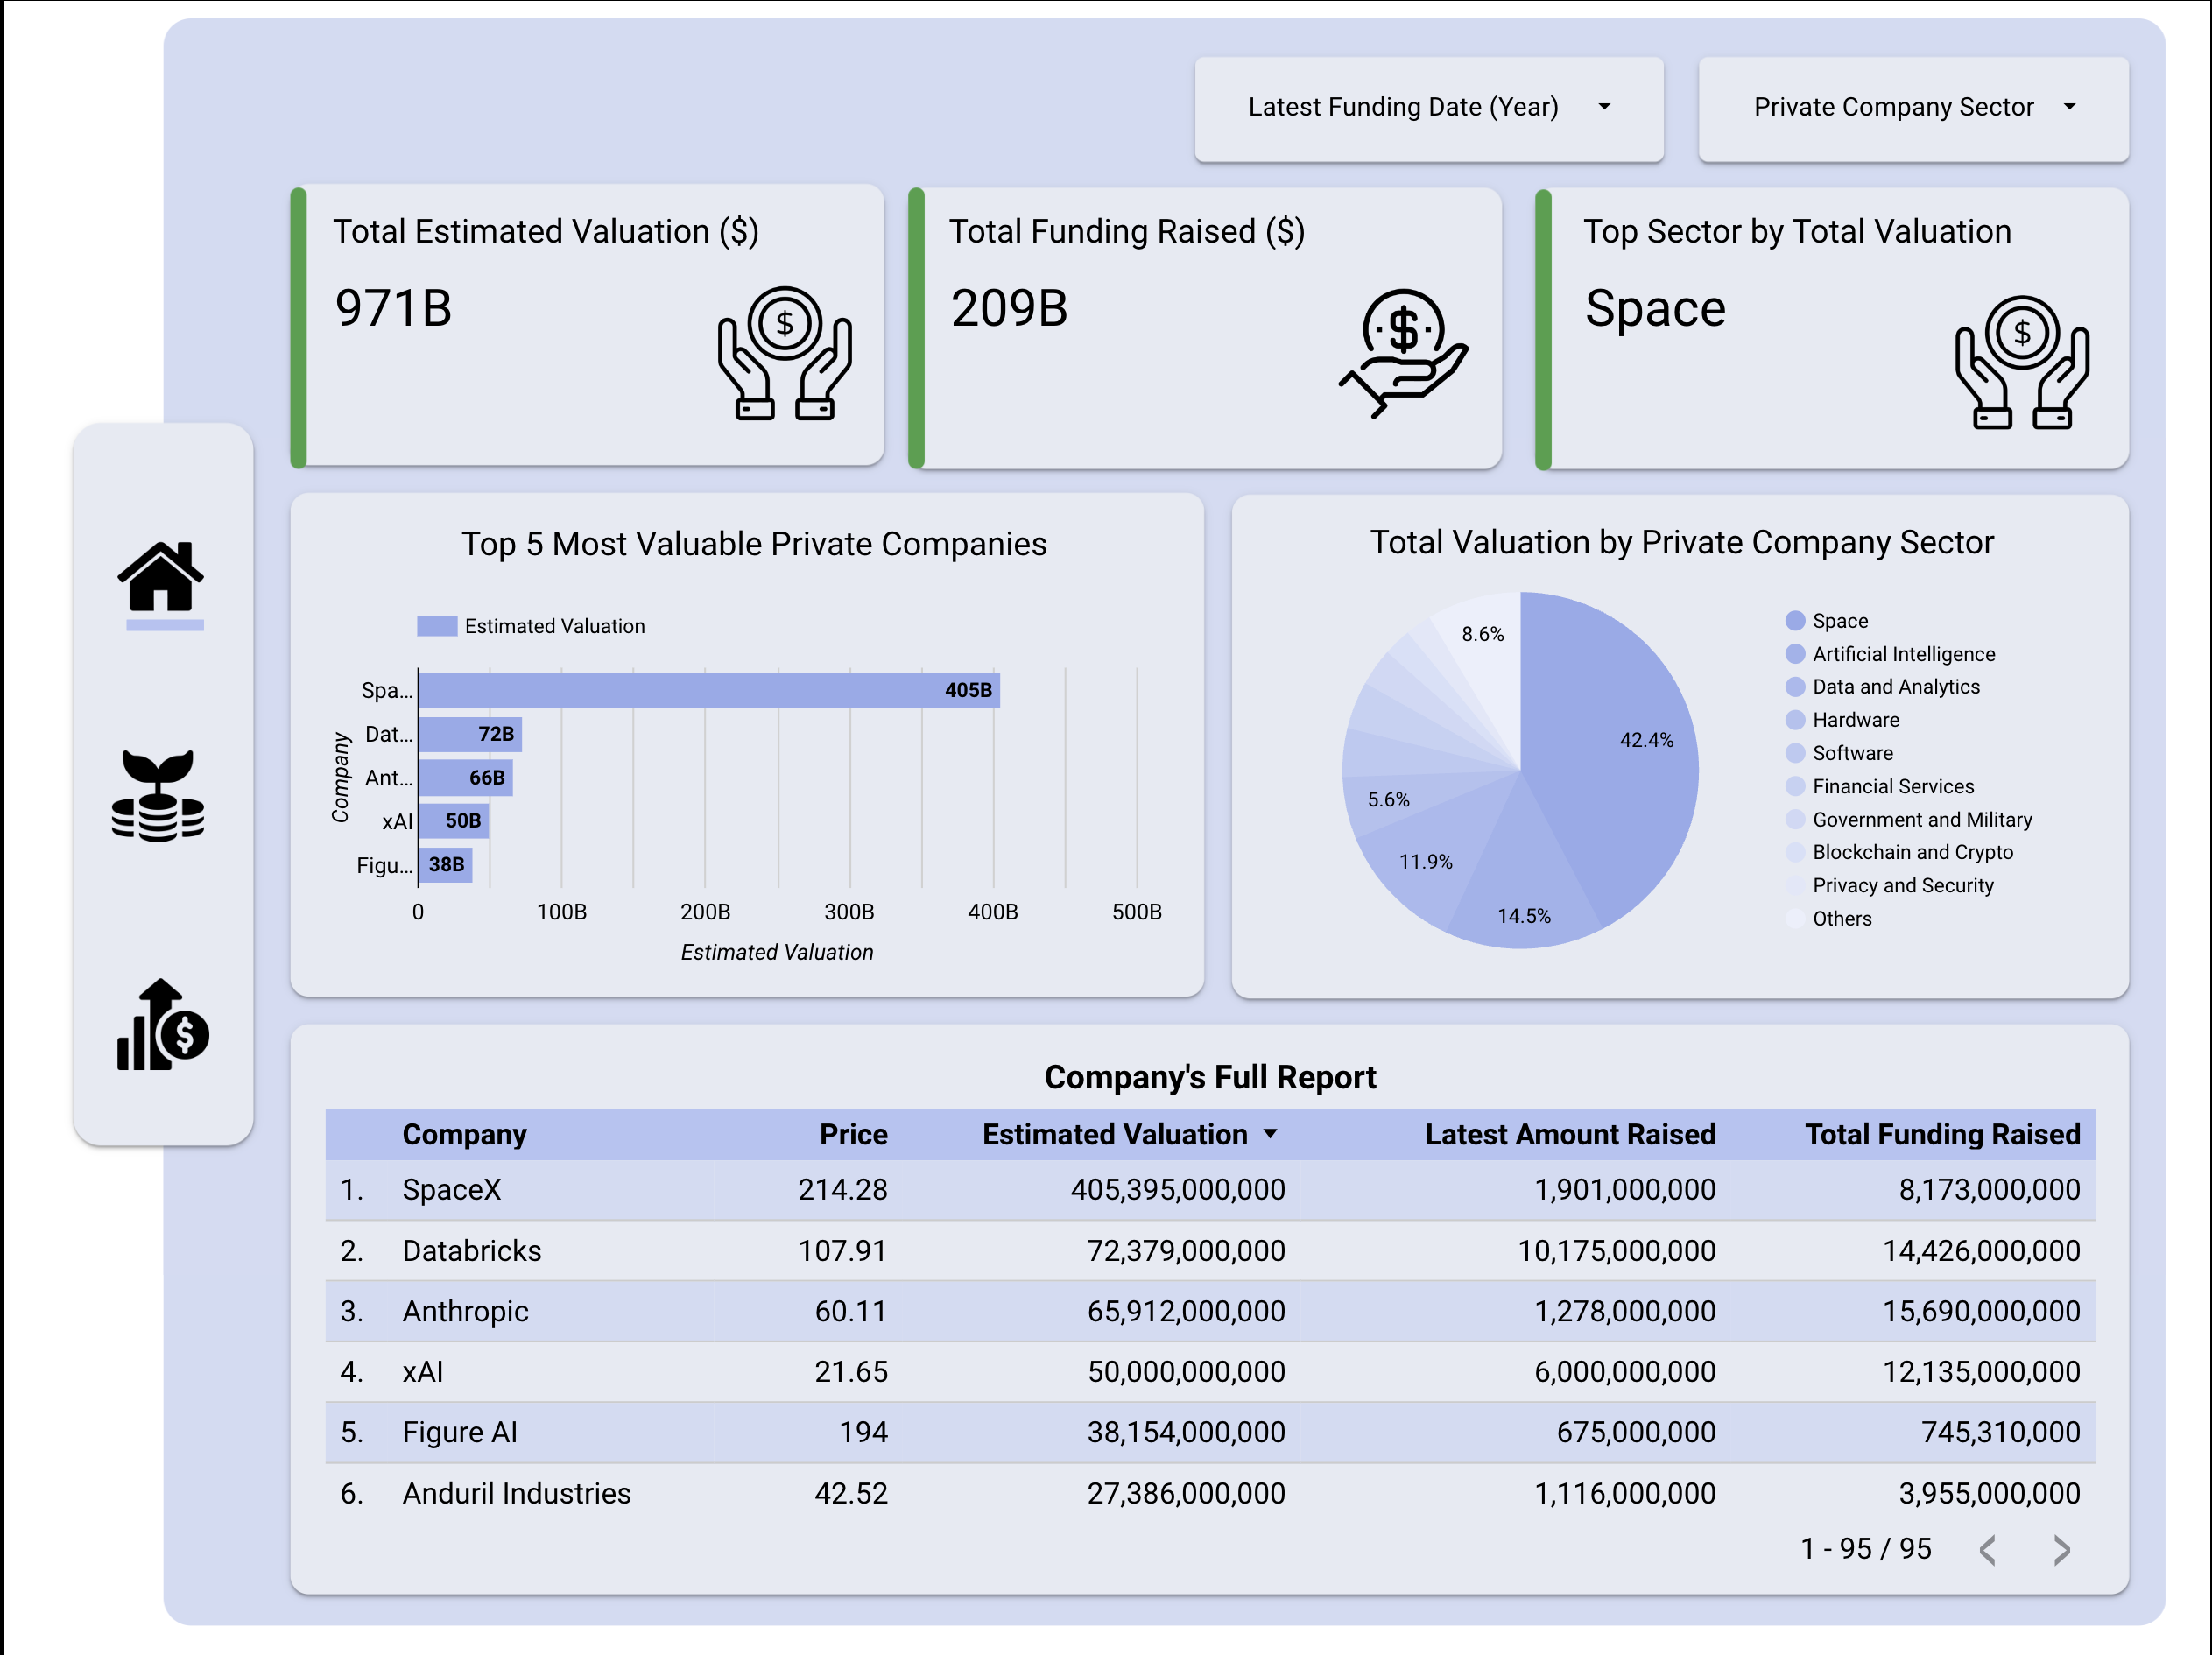

Layout of this report page (visuals, bound fields, positions):
{"tool":"powerbi","page":{"name":"Page 1","canvas":[1280,720],"ordinal":0},"visuals":[{"type":"shape","box":[80.7,17.1,1182.5,687.2],"z":0},{"type":"shape","box":[33,205.4,95.4,362],"z":1000},{"type":"shape","box":[150.4,105.2,339.9,137],"z":2000},{"type":"shape","box":[529.5,105.2,339.9,137],"z":3000},{"type":"shape","box":[904.9,105.2,339.9,137],"z":4000},{"type":"shape","box":[985.3,28.8,259.3,63.1],"z":5000},{"type":"shape","box":[732.8,28.8,237.4,63.1],"z":6000},{"type":"shape","box":[150.4,250.7,539.3,211.6],"z":7000},{"type":"shape","box":[710.5,250.7,534.4,210.3],"z":8000},{"type":"shape","box":[150.4,472,1094.4,220.1],"z":9000},{"type":"shape","box":[150.4,105.2,12.2,137],"z":10000},{"type":"shape","box":[529.5,105.2,12.2,137],"z":11000},{"type":"shape","box":[904.9,105.2,12.2,137],"z":12000},{"type":"clusteredBarChart","title":"Top 5 Most Valuable Private Companies","fields":{"Category":["cleaned_private_companies.Company"],"Y":["Sum(cleaned_private_companies.Estimated Valuation)"]},"box":[163.3,260.7,516,196.2],"z":13000},{"type":"pieChart","title":"Total Valuation by Private Company Sector","fields":{"Category":["cleaned_private_companies.Private Company Sector"],"Y":["Sum(cleaned_private_companies.Estimated Valuation)"]},"box":[720.4,260.7,514.6,196.2],"z":14000},{"type":"tableEx","title":"Company''s Full Report","fields":{"Values":["cleaned_private_companies.Company","Sum(cleaned_private_companies.Price)","Sum(cleaned_private_companies.Estimated Valuation)","Sum(cleaned_private_companies.Latest Amount Raised)","Sum(cleaned_private_companies.Total Funding Raised)"]},"box":[163.3,483,1071.7,203.1],"z":15000},{"type":"card","title":"Total Estimated Valuation","fields":{"Values":["Sum(cleaned_private_companies.Estimated Valuation)"]},"box":[163.3,152.3,166,53.5],"z":16000},{"type":"card","title":"Total Funding Raised","fields":{"Values":["Sum(cleaned_private_companies.Total Funding Raised)"]},"box":[542,155.1,168.8,50.8],"z":17000},{"type":"card","title":"Top Sector by Total Valuation","fields":{"Values":["cleaned_private_companies.TopSector"]},"box":[930.4,150.9,123.5,65.9],"z":18000},{"type":"slicer","fields":{"Values":["cleaned_private_companies.Private Company Sector"]},"box":[986.6,28.8,258,64.5],"z":19000},{"type":"slicer","fields":{"Values":["cleaned_private_companies.Latest Funding Date.Variation.Date Hierarchy.Year"]},"box":[735.5,28.8,233.3,64.5],"z":20000},{"type":"image","box":[48,251.1,65.9,67.2],"z":21000},{"type":"image","box":[39.8,371.9,74.1,60.4],"z":22000},{"type":"image","box":[784.9,150.9,75.5,91.9],"z":23000},{"type":"image","box":[1154,145.5,81,86.4],"z":24000},{"type":"image","box":[397.9,150.9,81,86.4],"z":25000},{"type":"shape","box":[59,311.5,43.9,12.3],"z":26000},{"type":"image","box":[48,472,65.9,64.5],"z":27000},{"type":"textbox","box":[172.9,115.3,247,35.7],"z":28000},{"type":"textbox","box":[553,115.3,270.3,35.7],"z":29000},{"type":"textbox","box":[930.4,115.3,264.8,37],"z":30000}]}

Visuals, with their boxes on the page's 1280x720 design canvas (x1, y1, x2, y2). These are canvas units, not pixel positions in the 2212x1655 screenshot, which may show the page scaled, cropped or inside an application window:
shape: bbox=(81, 17, 1263, 704)
shape: bbox=(33, 205, 128, 567)
shape: bbox=(150, 105, 490, 242)
shape: bbox=(530, 105, 869, 242)
shape: bbox=(905, 105, 1245, 242)
shape: bbox=(985, 29, 1245, 92)
shape: bbox=(733, 29, 970, 92)
shape: bbox=(150, 251, 690, 462)
shape: bbox=(710, 251, 1245, 461)
shape: bbox=(150, 472, 1245, 692)
shape: bbox=(150, 105, 163, 242)
shape: bbox=(530, 105, 542, 242)
shape: bbox=(905, 105, 917, 242)
"Top 5 Most Valuable Private Companies" clusteredBarChart: bbox=(163, 261, 679, 457)
"Total Valuation by Private Company Sector" pieChart: bbox=(720, 261, 1235, 457)
"Company''s Full Report" tableEx: bbox=(163, 483, 1235, 686)
"Total Estimated Valuation" card: bbox=(163, 152, 329, 206)
"Total Funding Raised" card: bbox=(542, 155, 711, 206)
"Top Sector by Total Valuation" card: bbox=(930, 151, 1054, 217)
slicer - cleaned_private_companies.Private Company Sector: bbox=(987, 29, 1245, 93)
slicer - cleaned_private_companies.Latest Funding Date.Variation.Date Hierarchy.Year: bbox=(736, 29, 969, 93)
image: bbox=(48, 251, 114, 318)
image: bbox=(40, 372, 114, 432)
image: bbox=(785, 151, 860, 243)
image: bbox=(1154, 146, 1235, 232)
image: bbox=(398, 151, 479, 237)
shape: bbox=(59, 312, 103, 324)
image: bbox=(48, 472, 114, 536)
textbox: bbox=(173, 115, 420, 151)
textbox: bbox=(553, 115, 823, 151)
textbox: bbox=(930, 115, 1195, 152)
